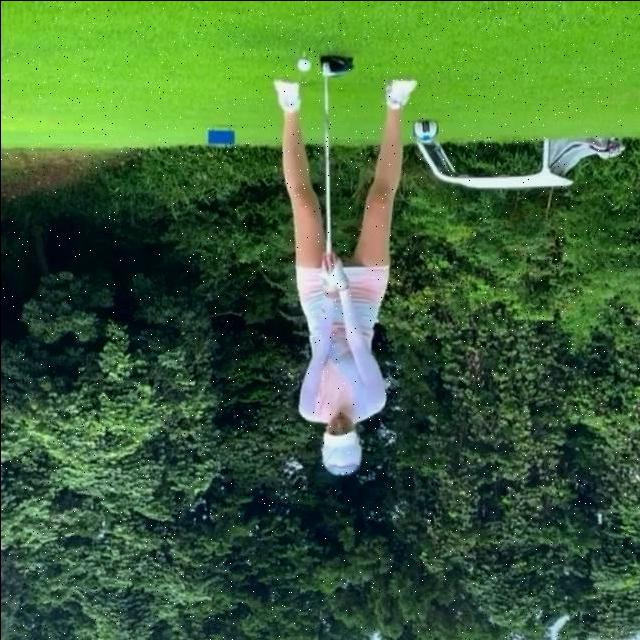golf ball: (296, 57, 310, 69)
golf club-handle: (319, 55, 353, 251)
golf club-head: (320, 56, 354, 77)
